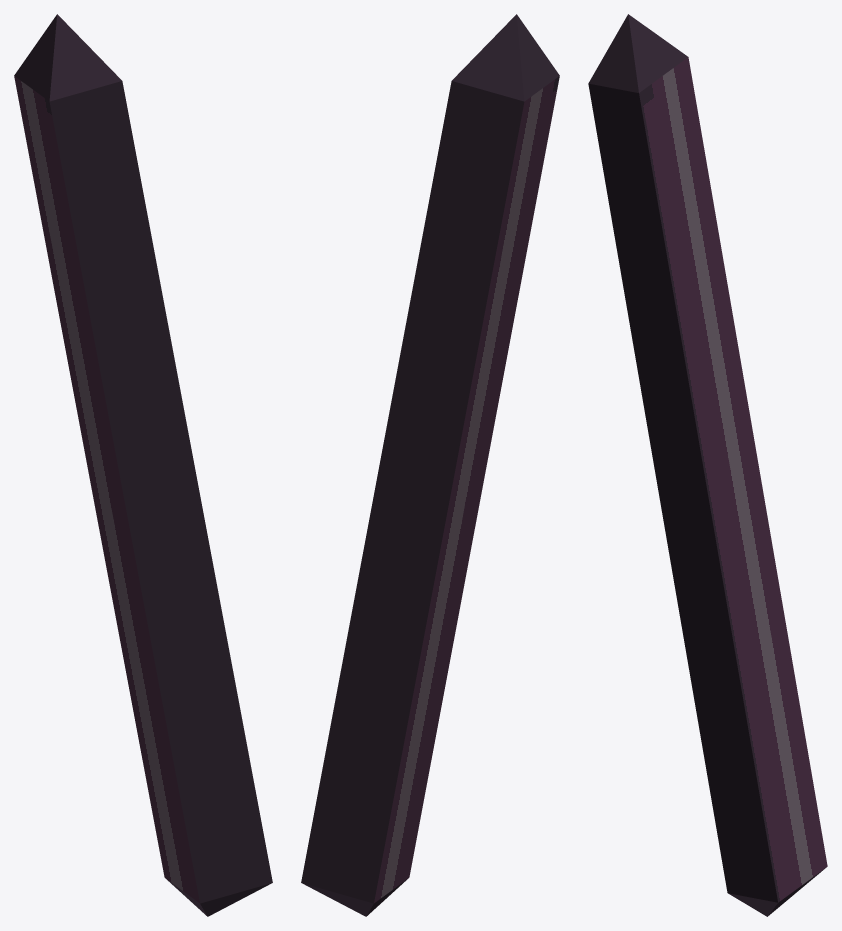
Rendered from spider_arm.glb.
The picture shows the model from 3 angles, left to right: view 1: azimuth 30°, elevation 25°; view 2: azimuth 150°, elevation 25°; view 3: azimuth 330°, elevation 25°; orthographic projection. The views are drawn at different scales.
Parts seen in each view (by area): view 1: Cube.029; view 2: Cube.029; view 3: Cube.029.
Part boxes in pixels (box(x1,y1,x2,y2)): Cube.029: box(14, 14, 272, 916); Cube.029: box(301, 14, 559, 916); Cube.029: box(588, 14, 827, 916).
Bounding box in the file's own units: 1.27 × 5.3 × 0.547.
Materials: 1 (1 with a texture image).
